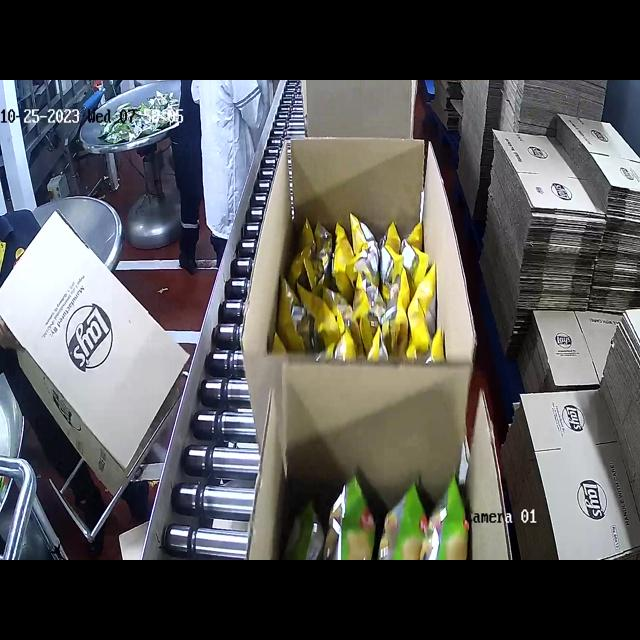salted: (320, 226, 431, 366)
yogurt: (319, 431, 471, 560)
